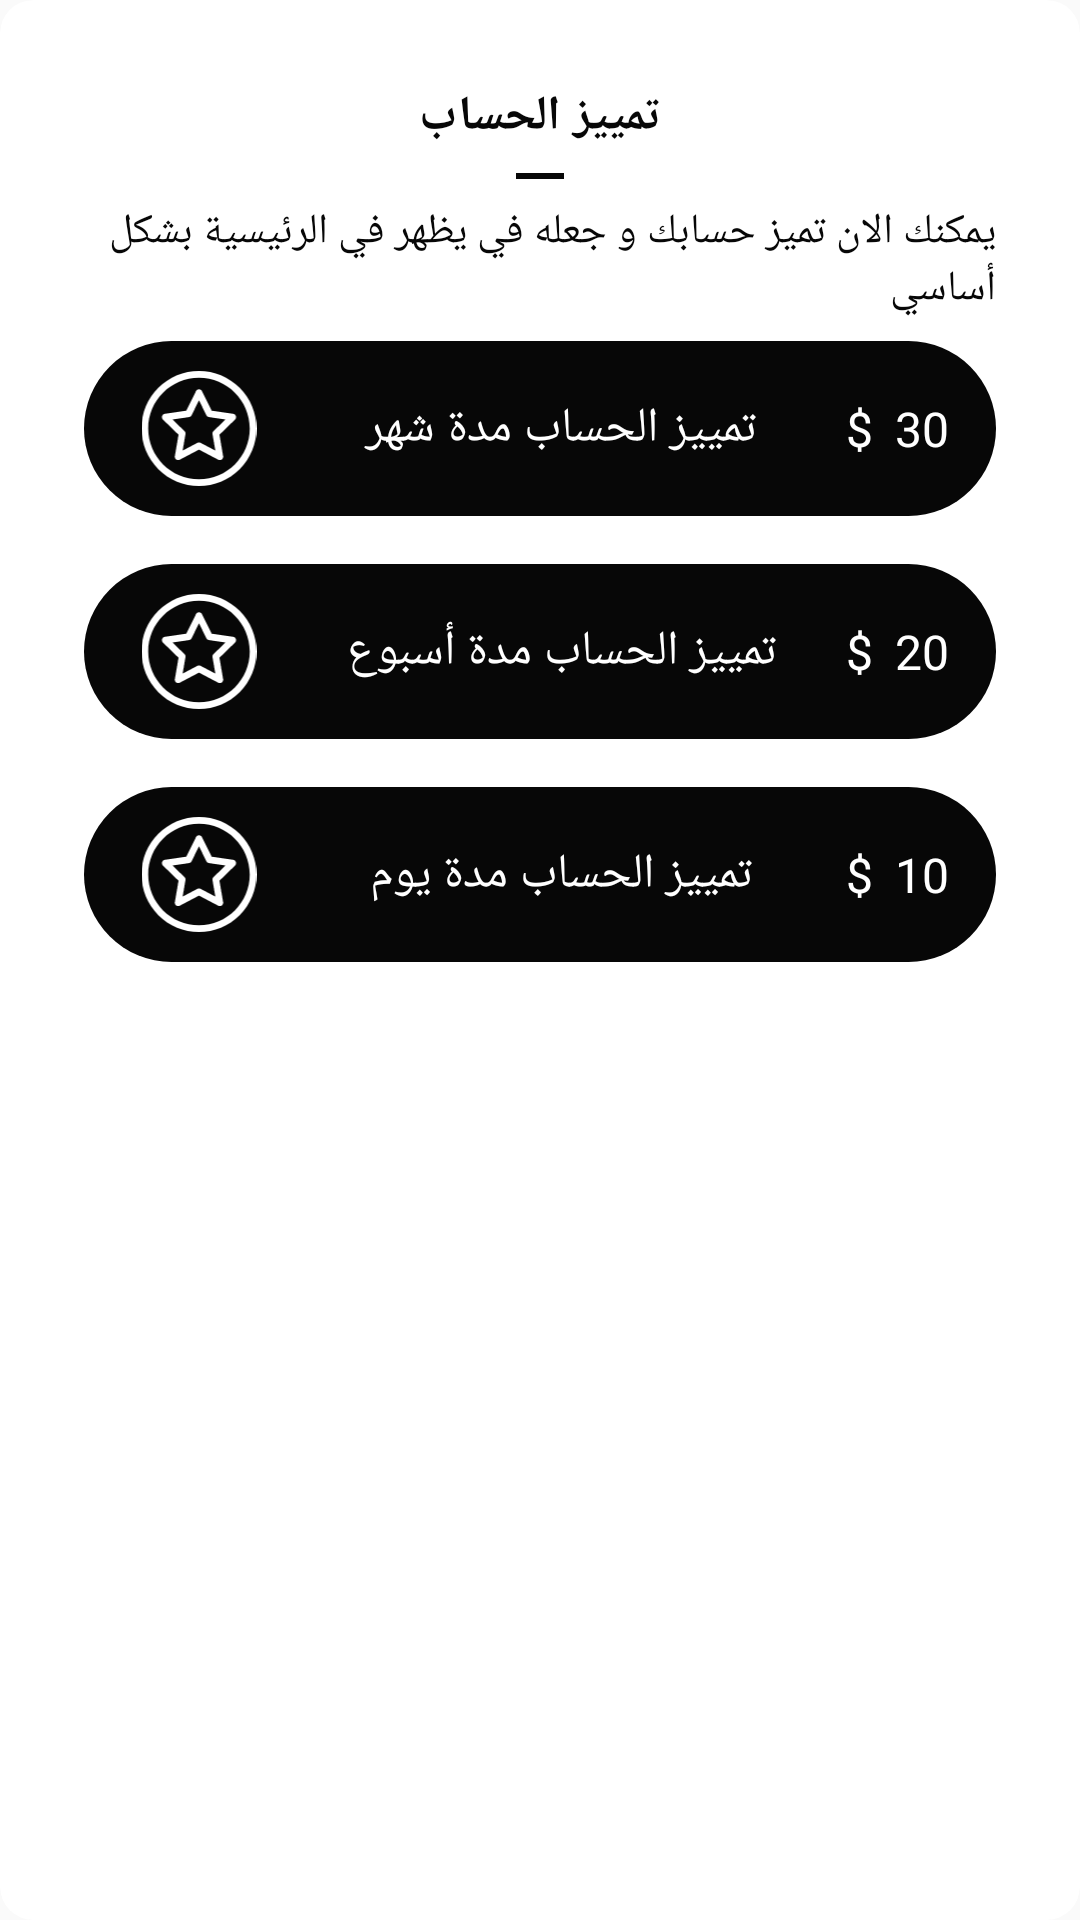

Point at icon controls on the screen. Image size 1080 × 1920, points as (x,y).
favorite: (199,428), (199,651), (199,874)
